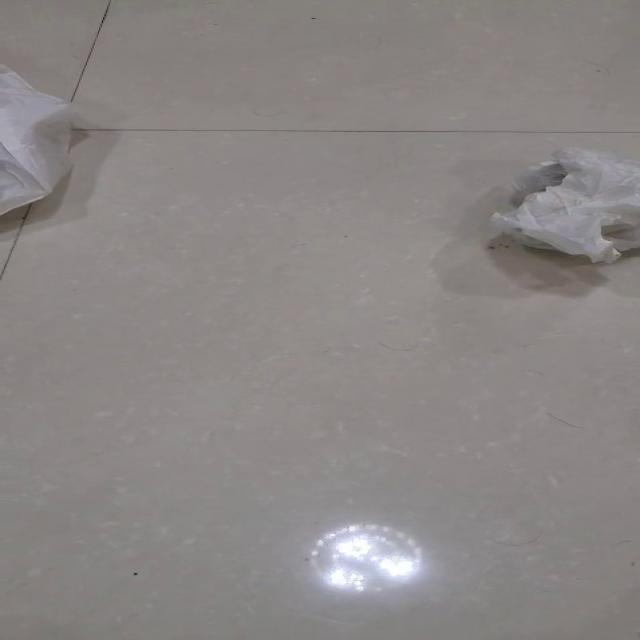plastic: (488, 146, 638, 264), (0, 64, 75, 215)
